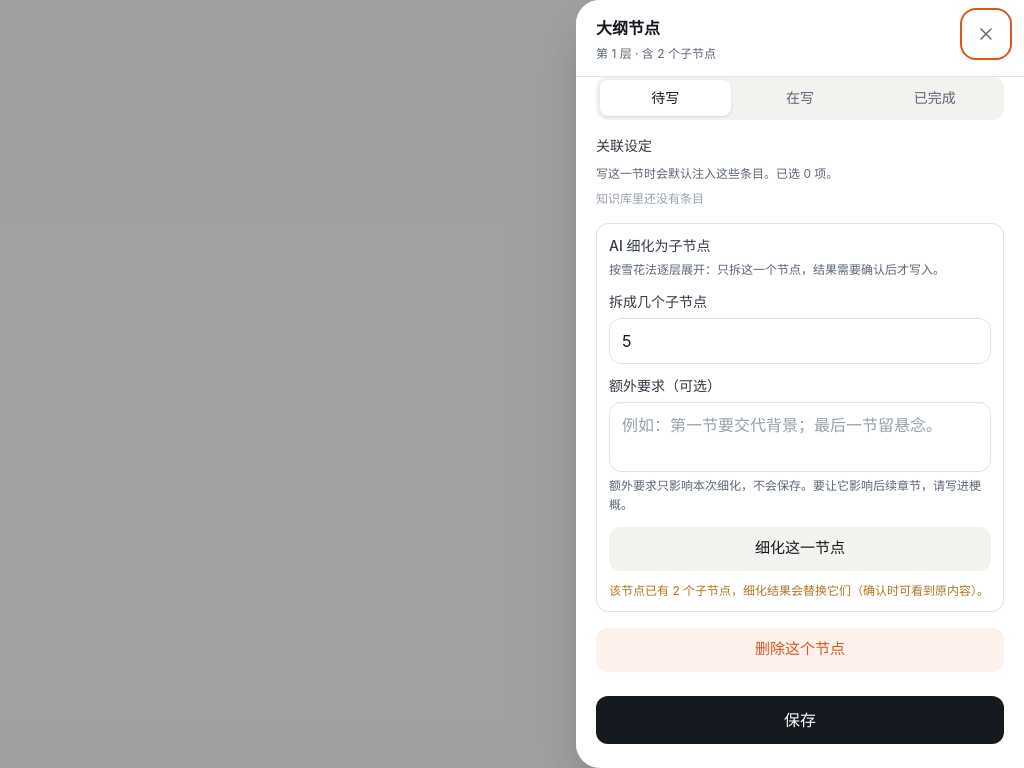
Test: S4 · replace 影响告知（US-3a，反向 R25） › 列出替换子节点数与解链章节数；取消不发请求，确认后才发
This screenshot has width=1024, height=768.
(page scrolled)
Click the button "细化这一节点" at (800, 548), box [609,526,991,570]
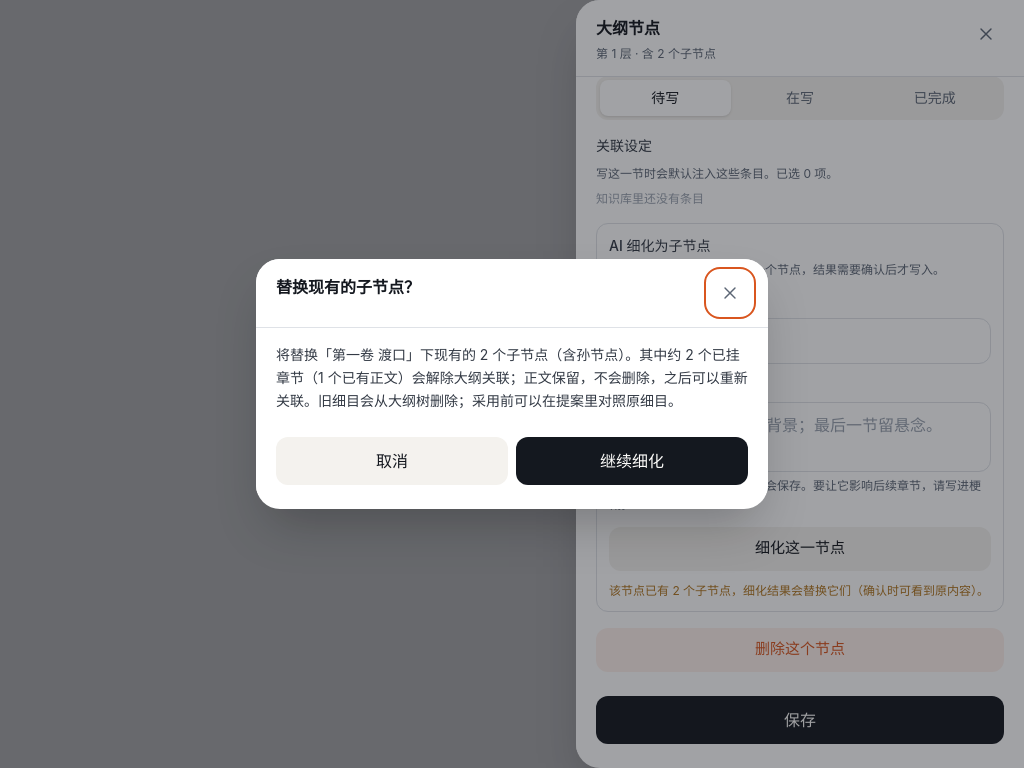
expect the text "正文保留，不会删除，之后可以重新关联" is shown: met, box [276,346,748,409]
#  取消：不发请求
Click the button "取消" at (392, 461), box [276,437,508,485]
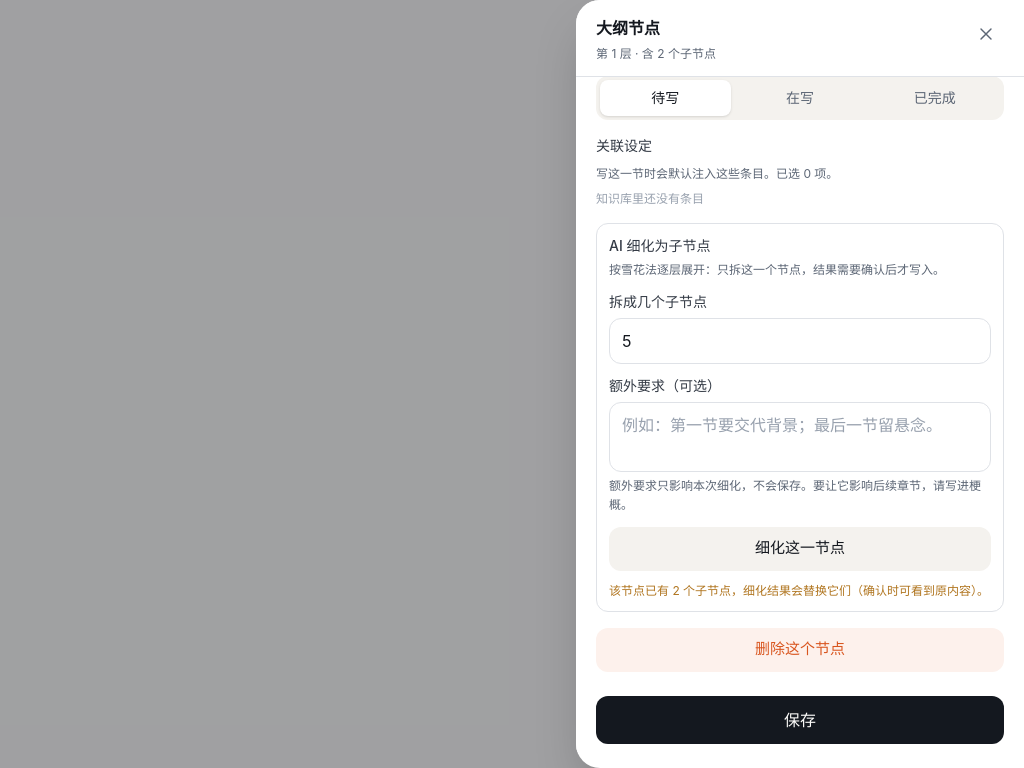
expect the heading "替换现有的子节点？" is gone: met
# 再点并确认：请求发出
Click the button "细化这一节点" at (800, 548), box [609,526,991,570]
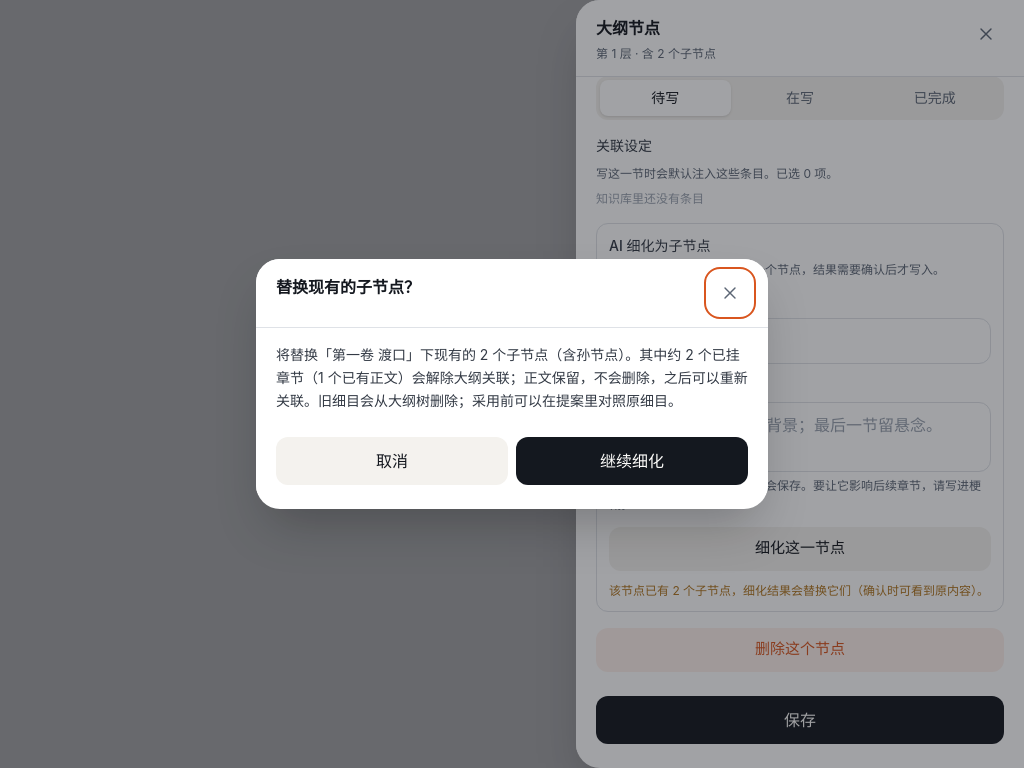
Click the button "继续细化" at (632, 461), box [516,437,748,485]
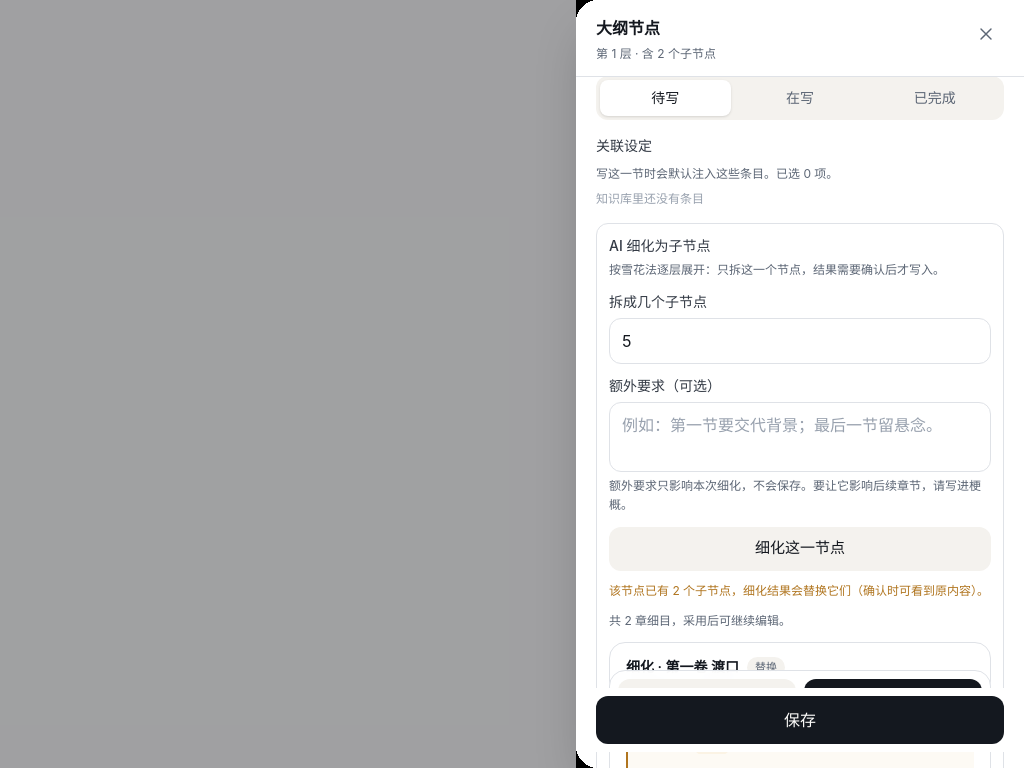
expect the button "采用这份细目" is shown: met, box [804,679,982,727]
